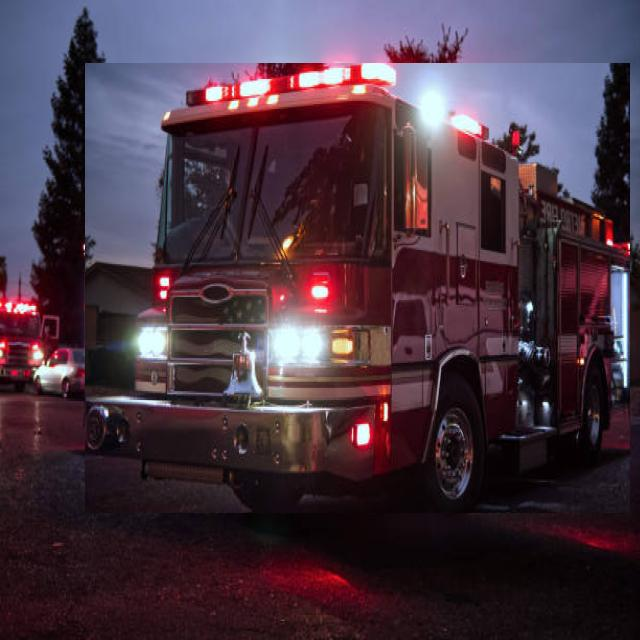emergency: (85, 64, 630, 513)
